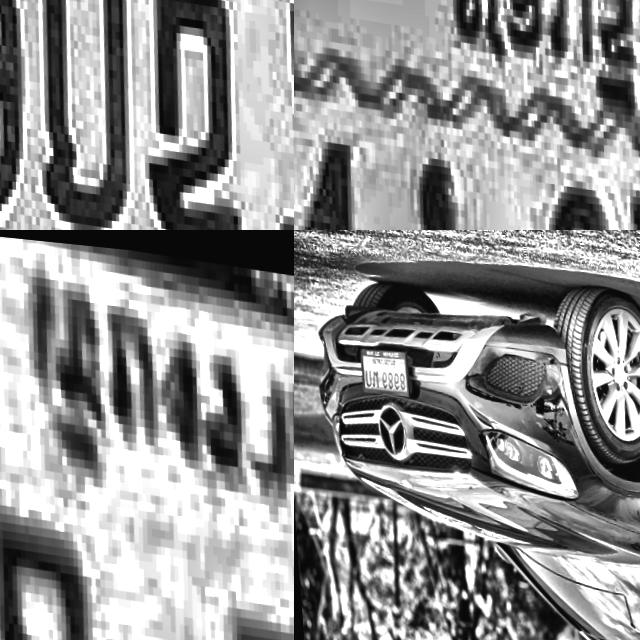license-plate: (0, 230, 294, 640), (294, 0, 640, 230), (0, 0, 294, 230), (356, 345, 411, 399)
